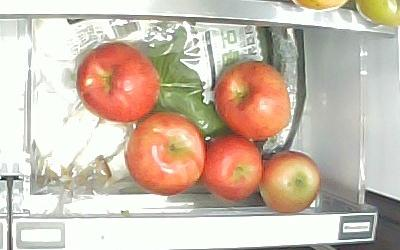apple: (76, 42, 161, 123), (124, 113, 205, 197), (213, 61, 293, 142), (202, 135, 263, 202), (260, 149, 321, 214)
